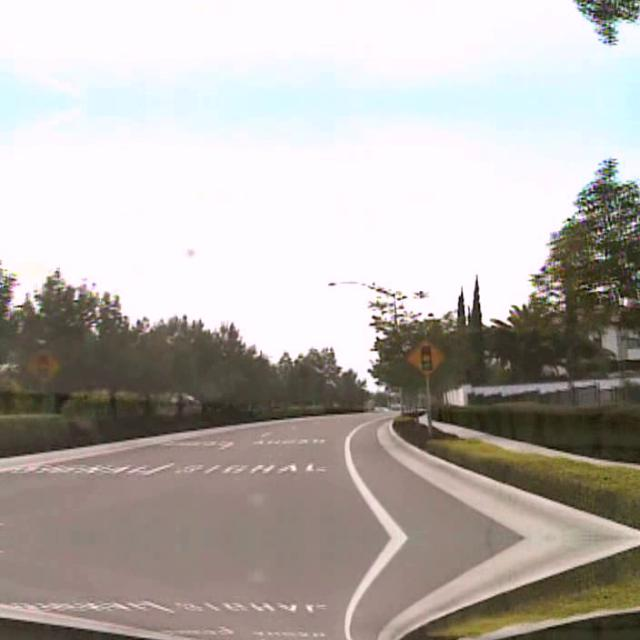signalAhead: (406, 336, 444, 376), (24, 346, 60, 382)
